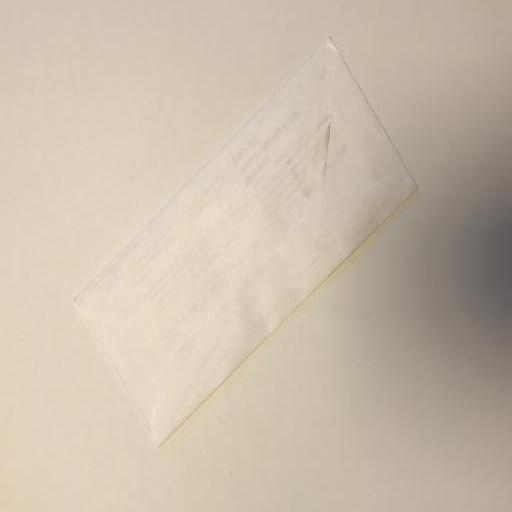paper: (72, 32, 416, 448)
